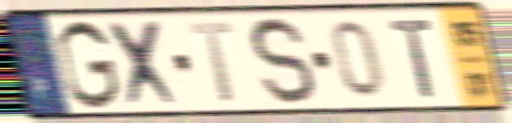0: (329, 17, 390, 103)
G: (54, 17, 124, 113)
S: (247, 13, 319, 109)
T: (386, 17, 439, 101), (187, 19, 238, 106)
X: (103, 17, 186, 110)
